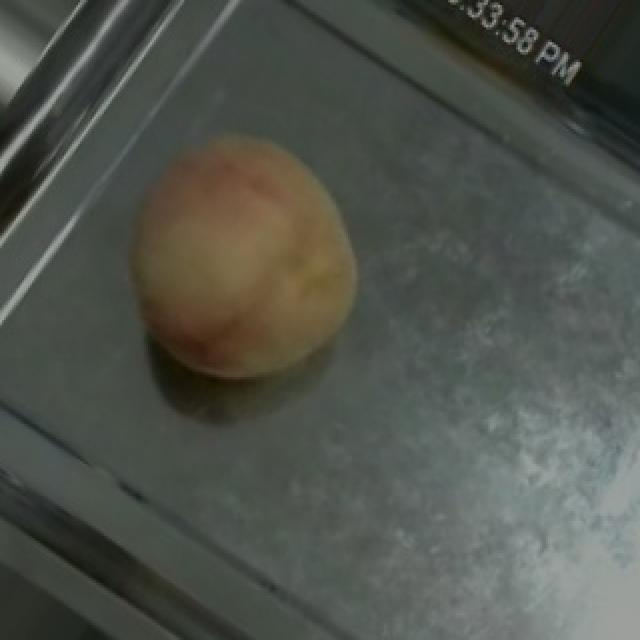Fruit: (82, 91, 406, 432)
